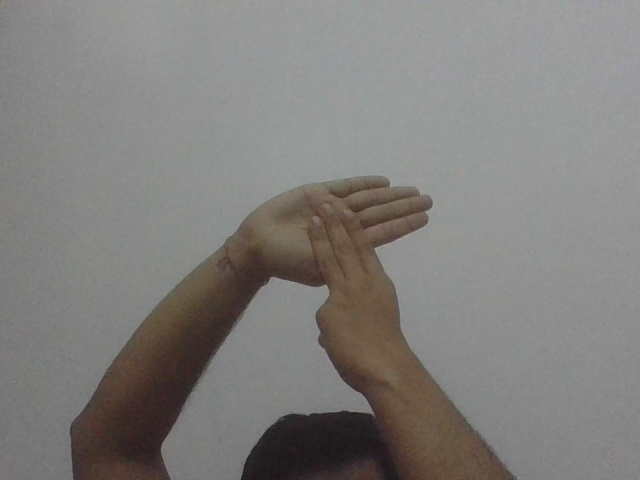M: (254, 170, 448, 315)
